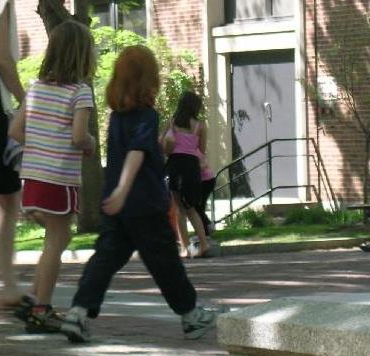pedestrian: (60, 45, 229, 342), (8, 20, 97, 334), (162, 94, 210, 258)
